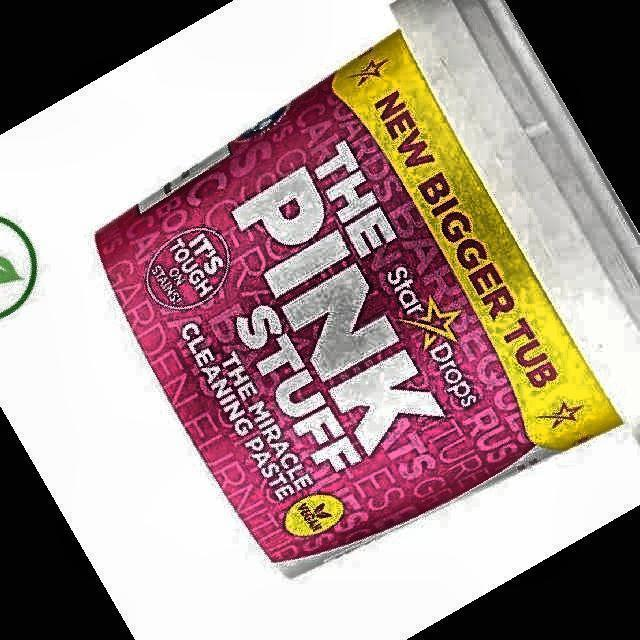plastic: (96, 0, 639, 575)
